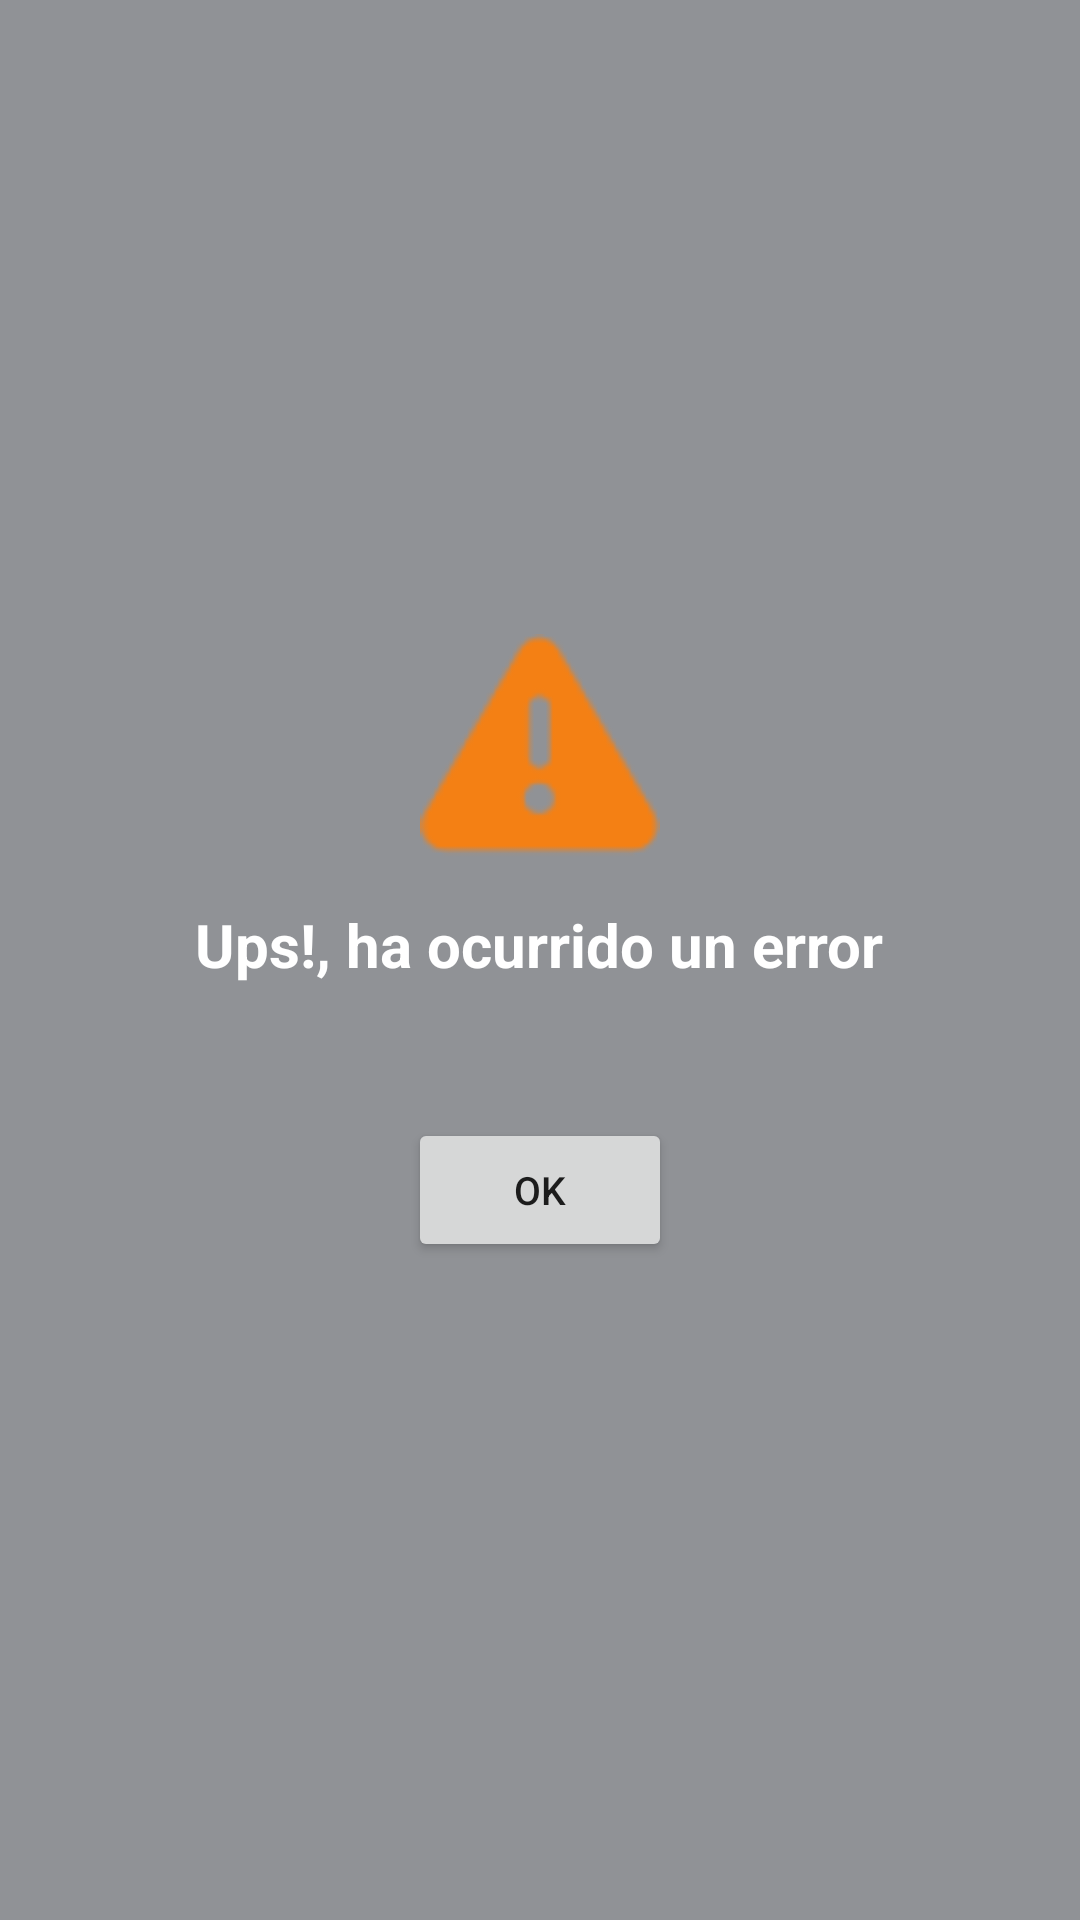

Named icons in this screenshot (1080px x 1920px) and their centers, (x=x, y=y):
alert: (x=540, y=744)
